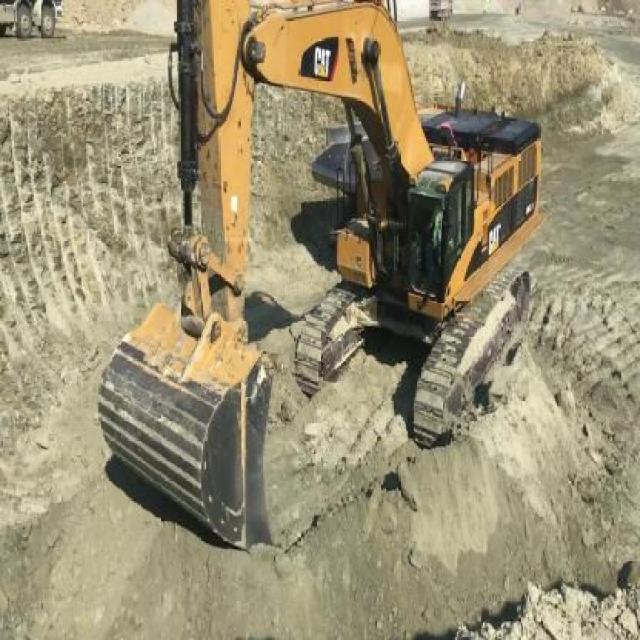Excavator: (85, 2, 546, 560)
